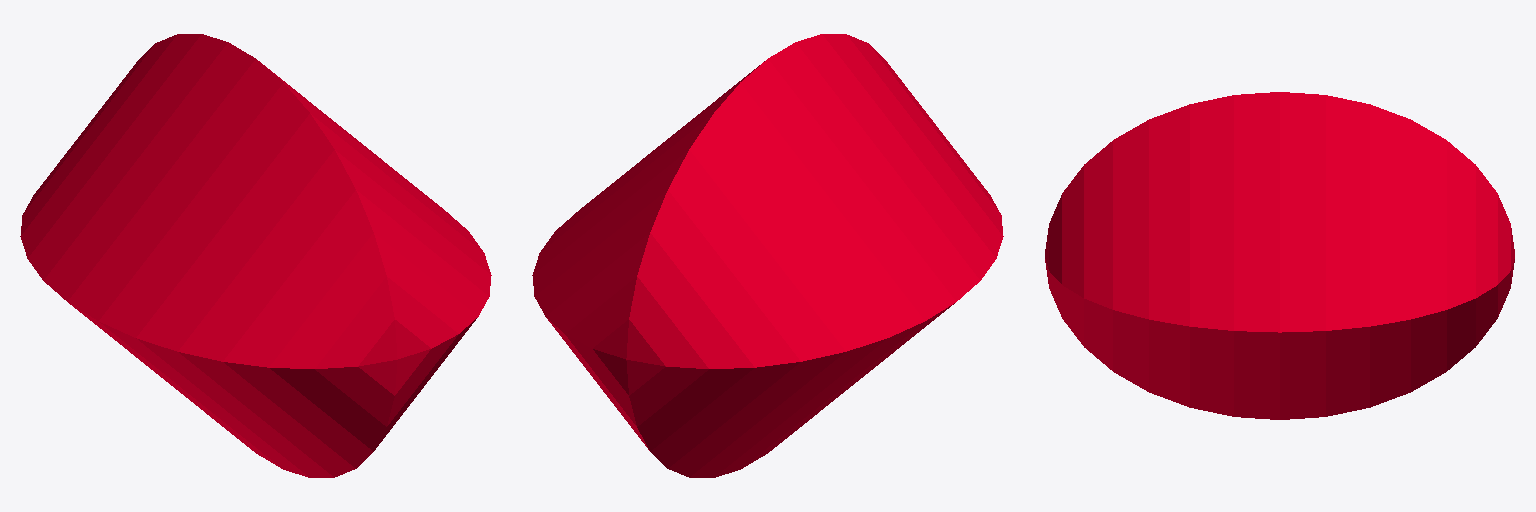
robot.urdf — ovaloid.urdf:
<?xml version="1.0" ?>
<robot name="ovaloid.urdf">

  <link name="ovaloid">
    <contact>
    	<friction_anchor/>
    	   <lateral_friction value="1.0"/>
    </contact>
    <inertial>
      <origin rpy="0 0 0" xyz="0 0 0"/>
       <mass value=".1"/>
       <inertia ixx="1" ixy="0" ixz="0" iyy="1" iyz="0" izz="1"/>
    </inertial>
    <visual>
      <origin rpy="0 0 0" xyz="0 0 0"/>
      <geometry>
				<mesh filename="ovaloid.obj" scale="1.0 1.0 1.0"/>
      </geometry>
       <material name="red">
        <color rgba="0.9 0 0.2 1.0"/>
      </material>
    </visual>
    <collision>
      <origin rpy="0 0 0" xyz="0 0 0"/>
      <geometry>
				<mesh filename="ovaloid.obj" scale="1.0 1.0 1.0"/>
      </geometry>
    </collision>
  </link>


</robot>

--- Facts derived from the render (not from the file) ---
3 views of the same robot in one strip: view 1: azimuth 30°, elevation 25°; view 2: azimuth 150°, elevation 25°; view 3: azimuth 270°, elevation 25° (orthographic).
Model ovaloid.urdf with 1 links and 0 joints (none), rooted at ovaloid, posed every joint at zero.
Visible links, largest first — view 1: ovaloid; view 2: ovaloid; view 3: ovaloid.
Link boxes in pixels (x1=…): ovaloid: x1=20, y1=34, x2=491, y2=477; ovaloid: x1=532, y1=34, x2=1003, y2=477; ovaloid: x1=1045, y1=92, x2=1514, y2=419.
Size in the robot's own frame: 0.1 by 0.13 by 0.1 metres.
1 mesh visuals loaded from 1 distinct referenced files (1 OBJ).